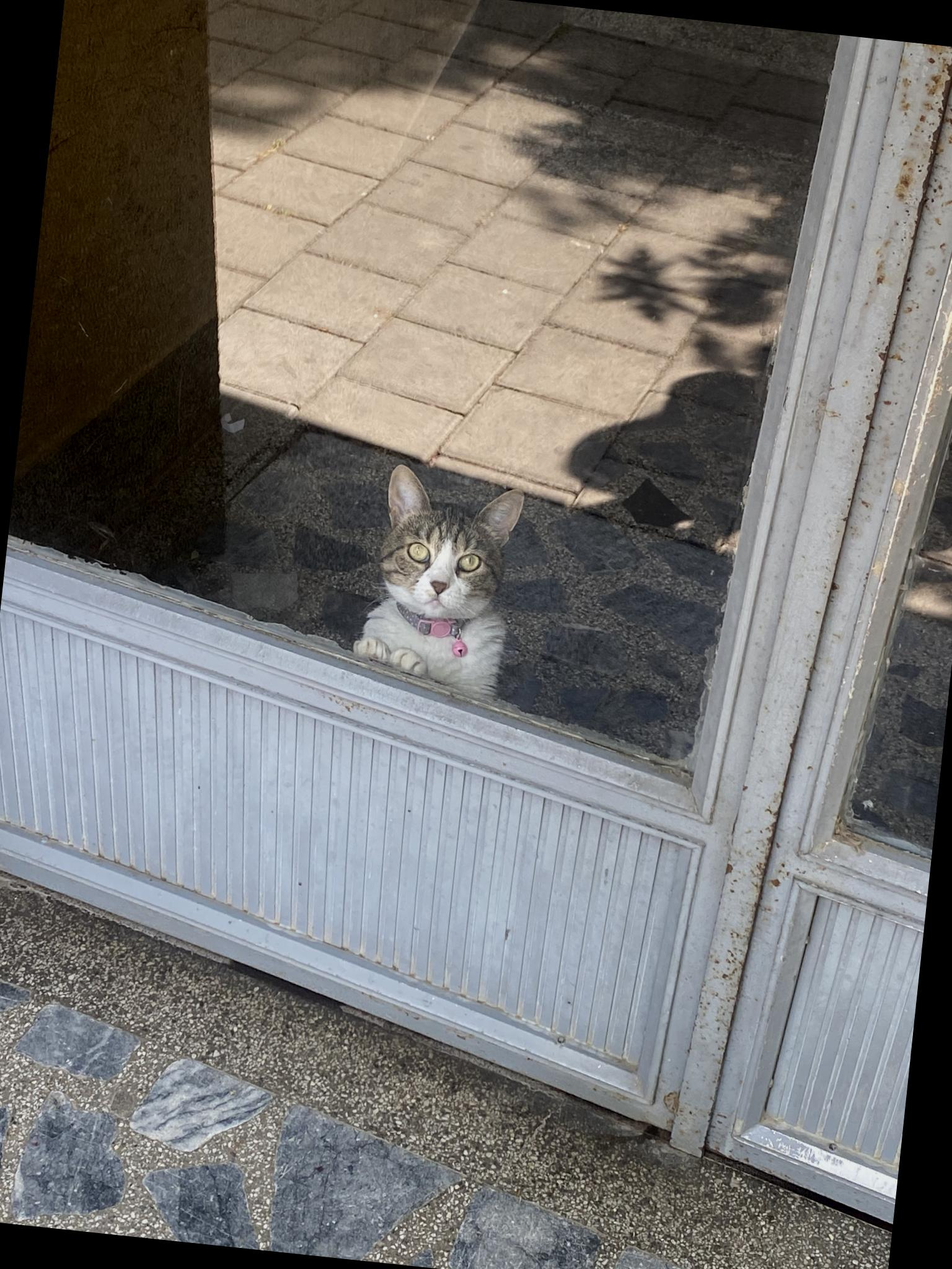macka: (346, 460, 528, 705)
